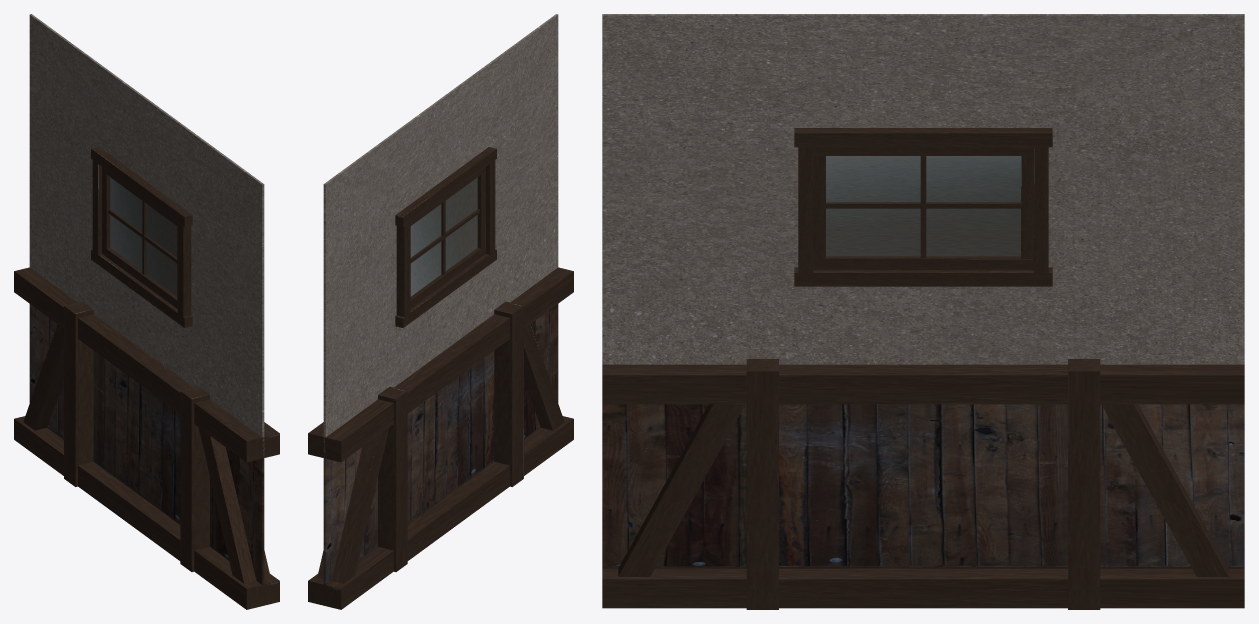
Rendered from OutdoorArchitecture_BasicWall04_Window03_NoEdges_BShortt.fbx.
3 renders of one model, left to right at view 1: azimuth 30°, elevation 25°; view 2: azimuth 150°, elevation 25°; view 3: azimuth 270°, elevation 25°, orthographic. The views are drawn at different scales.
Parts seen in each view (by area): view 1: OutdoorArchitecture_BasicWall04_Window03_NoEdges_BShortt; view 2: OutdoorArchitecture_BasicWall04_Window03_NoEdges_BShortt; view 3: OutdoorArchitecture_BasicWall04_Window03_NoEdges_BShortt.
Part boxes in pixels (x1=…): OutdoorArchitecture_BasicWall04_Window03_NoEdges_BShortt: x1=14, y1=14, x2=279, y2=609; OutdoorArchitecture_BasicWall04_Window03_NoEdges_BShortt: x1=308, y1=14, x2=573, y2=609; OutdoorArchitecture_BasicWall04_Window03_NoEdges_BShortt: x1=602, y1=14, x2=1244, y2=609.
Bounding box in the file's own units: 28.5 × 300 × 300.
